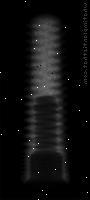Implant Direct: (22, 12, 71, 185)
